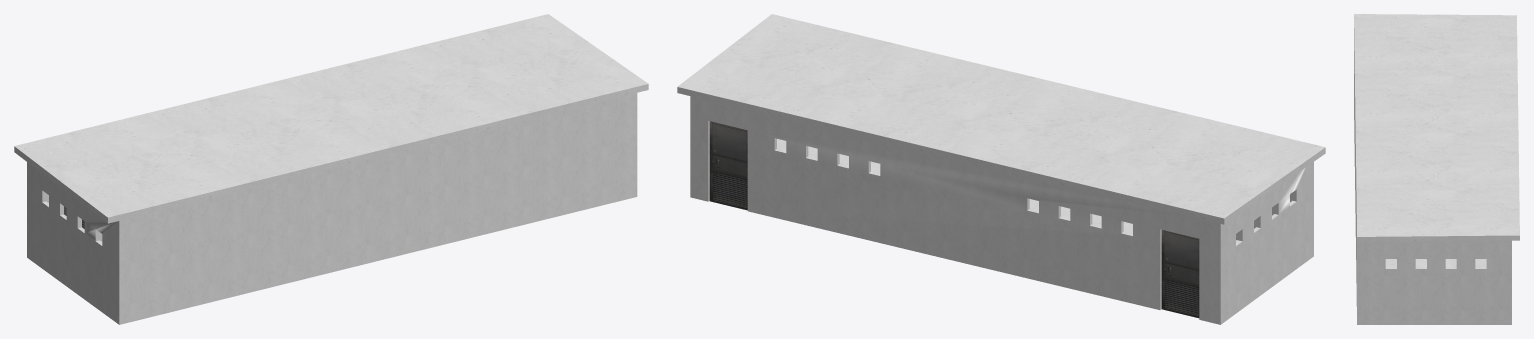
Rendered from CK-gongjufang01-JZ.FBX.
The picture shows the model from 3 angles, left to right: view 1: azimuth 30°, elevation 25°; view 2: azimuth 150°, elevation 25°; view 3: azimuth 270°, elevation 25°; orthographic projection. The views are drawn at different scales.
Parts seen in each view (by area): view 1: CK-gongjufang01-JZ; view 2: CK-gongjufang01-JZ; view 3: CK-gongjufang01-JZ.
Boxes of the visible parts, x1,y1,x2,y2 form: CK-gongjufang01-JZ: (14,14,648,324); CK-gongjufang01-JZ: (677,14,1325,324); CK-gongjufang01-JZ: (1354,14,1519,324).
Bounding box in the file's own units: 14.09 × 2.73 × 4.43.
Materials: 2 (2 with a texture image).
